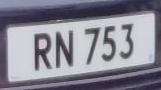3: (118, 17, 136, 63)
5: (100, 21, 120, 68)
7: (81, 22, 103, 71)
N: (54, 25, 78, 73)
R: (31, 27, 56, 76)
